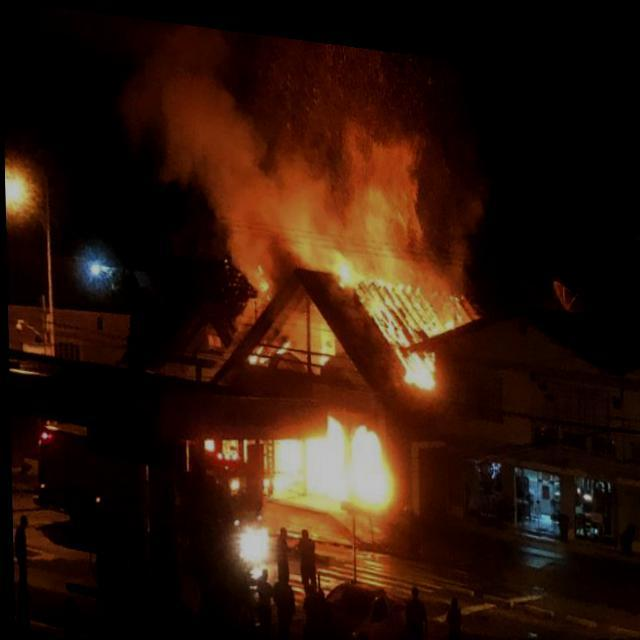Fire: (267, 398, 390, 500), (330, 245, 466, 333), (396, 329, 434, 380), (250, 330, 292, 364), (248, 253, 268, 284)
